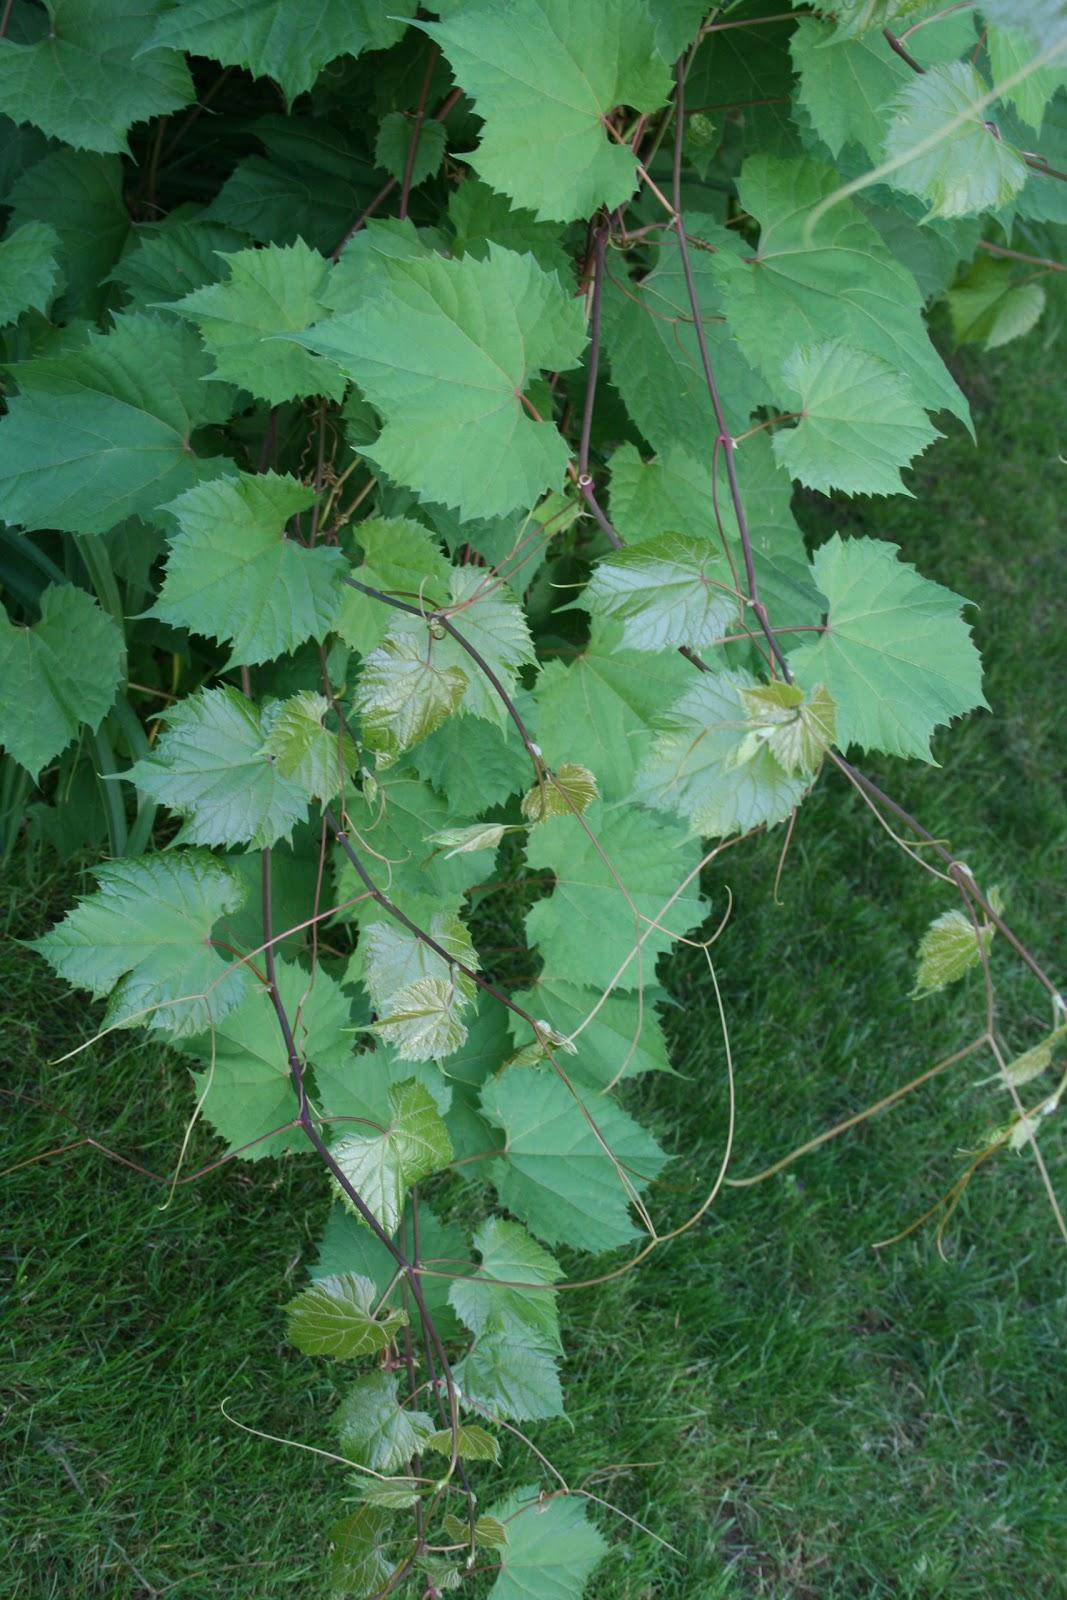grape leaf black rot: (289, 231, 601, 518), (716, 154, 978, 427), (397, 1, 672, 221), (762, 533, 1003, 779), (1, 308, 233, 538), (114, 471, 366, 669), (21, 854, 252, 1060), (528, 789, 729, 994), (480, 1061, 684, 1261), (80, 689, 307, 851), (763, 343, 957, 502), (324, 1081, 457, 1264), (288, 1265, 407, 1382)
